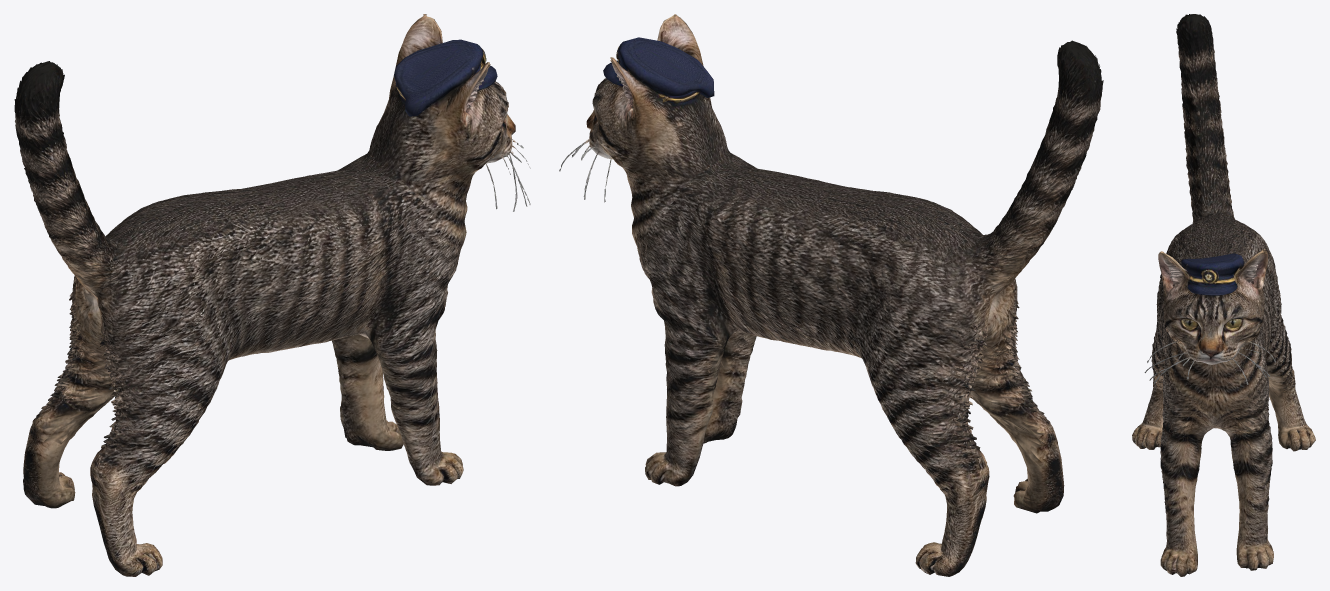
File: NAKANOSAN.glb
The picture shows the model from 3 angles, left to right: view 1: azimuth 30°, elevation 25°; view 2: azimuth 150°, elevation 25°; view 3: azimuth 270°, elevation 25°; orthographic projection. The views are drawn at different scales.
Visible parts, largest first — view 1: tripo_node_1859e901-fdd5-49d3-bc30-b612946fa54b; view 2: tripo_node_1859e901-fdd5-49d3-bc30-b612946fa54b; view 3: tripo_node_1859e901-fdd5-49d3-bc30-b612946fa54b.
Part boxes in pixels (x1,y1,x2,y2): tripo_node_1859e901-fdd5-49d3-bc30-b612946fa54b: (14,14,530,576); tripo_node_1859e901-fdd5-49d3-bc30-b612946fa54b: (559,14,1103,576); tripo_node_1859e901-fdd5-49d3-bc30-b612946fa54b: (1132,14,1315,576).
Bounding box in the file's own units: 1.07 × 0.998 × 0.4109.
Materials: 1 (1 with a texture image).
